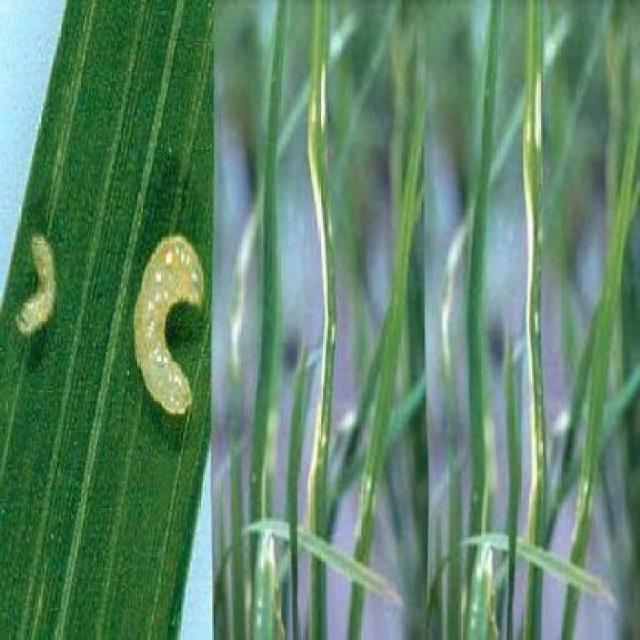whorl-maggot: (129, 230, 211, 416), (12, 223, 62, 340)
